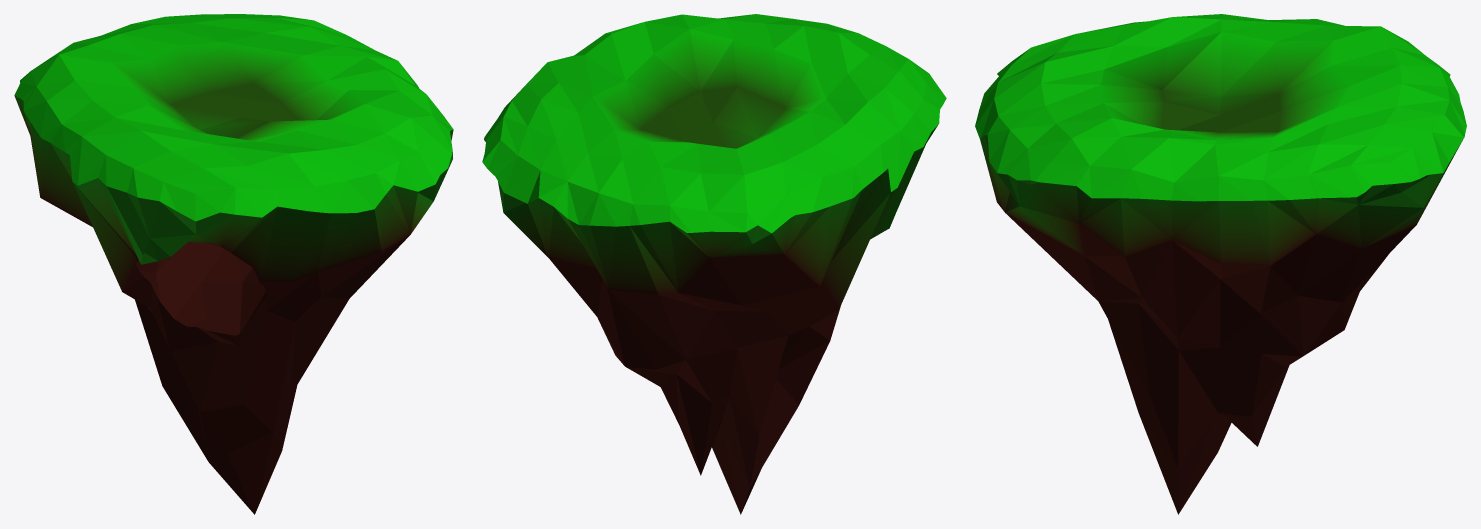
Rendered from Island.fbx.
3 views of the same model, side by side, from view 1: azimuth 30°, elevation 25°; view 2: azimuth 150°, elevation 25°; view 3: azimuth 270°, elevation 25° (orthographic). The views are drawn at different scales.
Visible parts, largest first — view 1: Island; view 2: Island; view 3: Island.
Part boxes in pixels (left/top/right/bottom): Island: left=14, top=14, right=453, bottom=514; Island: left=482, top=14, right=946, bottom=514; Island: left=975, top=14, right=1466, bottom=514.
Bounding box in the file's own units: 20.1 × 24 × 24.22.
